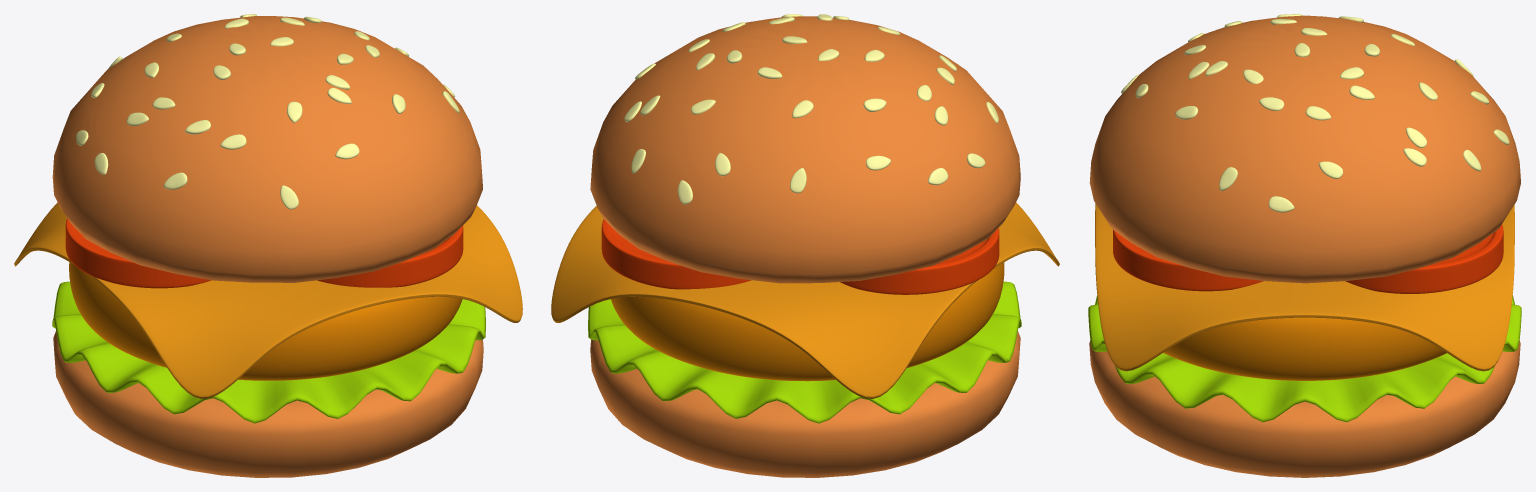
File: Hamburger.fbx
3 views of the same model, side by side, from view 1: azimuth 30°, elevation 25°; view 2: azimuth 150°, elevation 25°; view 3: azimuth 270°, elevation 25° (orthographic).
Visible parts, largest first — view 1: Cylinder.008, Cylinder.007, Plane.002, Cylinder.009, Cylinder.010, Cylinder.012, Cylinder.013; view 2: Cylinder.008, Cylinder.007, Plane.002, Cylinder.009, Cylinder.010, Cylinder.012, Cylinder.011; view 3: Cylinder.008, Cylinder.007, Plane.002, Cylinder.010, Cylinder.009, Cylinder.011, Cylinder.013.
Part boxes in pixels (x1,y1,x2,y2): Cylinder.008: (52, 16, 482, 282); Cylinder.007: (53, 331, 483, 477); Plane.002: (14, 202, 522, 398); Cylinder.009: (52, 281, 485, 423); Cylinder.010: (69, 262, 462, 380); Cylinder.012: (65, 218, 211, 288); Cylinder.013: (317, 225, 463, 287); Cylinder.008: (590, 16, 1020, 283); Cylinder.007: (590, 331, 1020, 477); Plane.002: (551, 202, 1059, 398); Cylinder.009: (588, 281, 1021, 423); Cylinder.010: (611, 262, 1004, 381); Cylinder.012: (840, 228, 999, 294); Cylinder.011: (601, 219, 751, 289); Cylinder.008: (1089, 15, 1520, 283); Cylinder.007: (1089, 340, 1520, 477); Plane.002: (1095, 203, 1514, 371); Cylinder.010: (1163, 317, 1446, 380); Cylinder.009: (1088, 295, 1521, 422); Cylinder.011: (1345, 224, 1503, 293); Cylinder.013: (1113, 230, 1263, 291).
Size of the model in its own units: 196 by 189 by 196.
